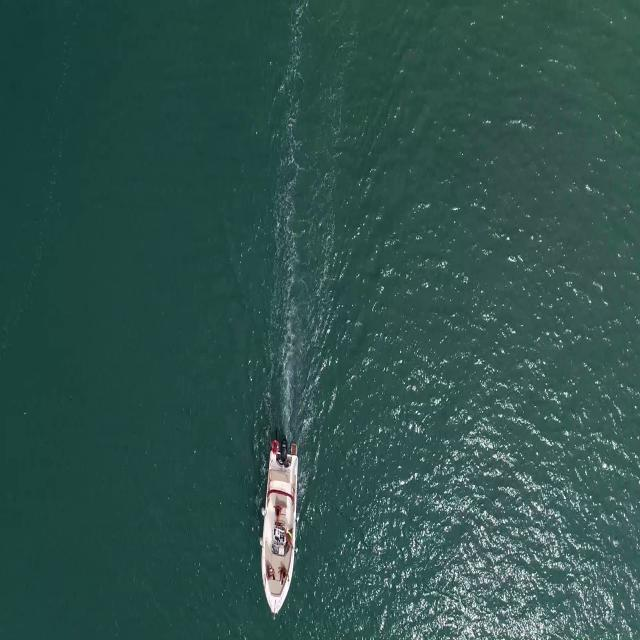boat: (258, 453, 300, 617)
life_buoy: (270, 440, 279, 452)
person: (264, 562, 277, 585), (284, 527, 295, 550), (273, 502, 283, 526), (280, 566, 289, 584)
